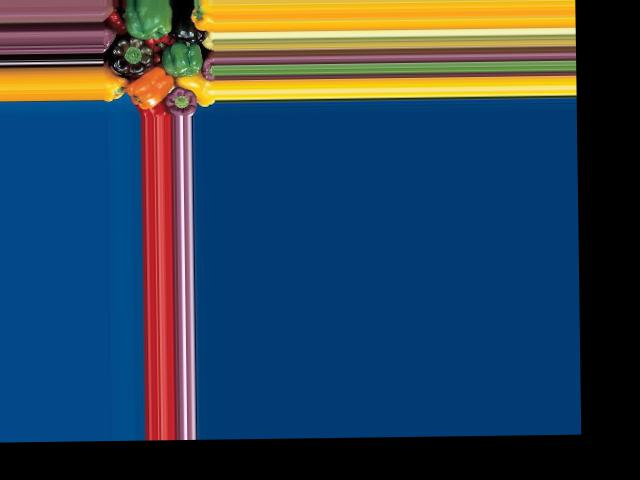bell_pepper: (122, 4, 170, 35)
